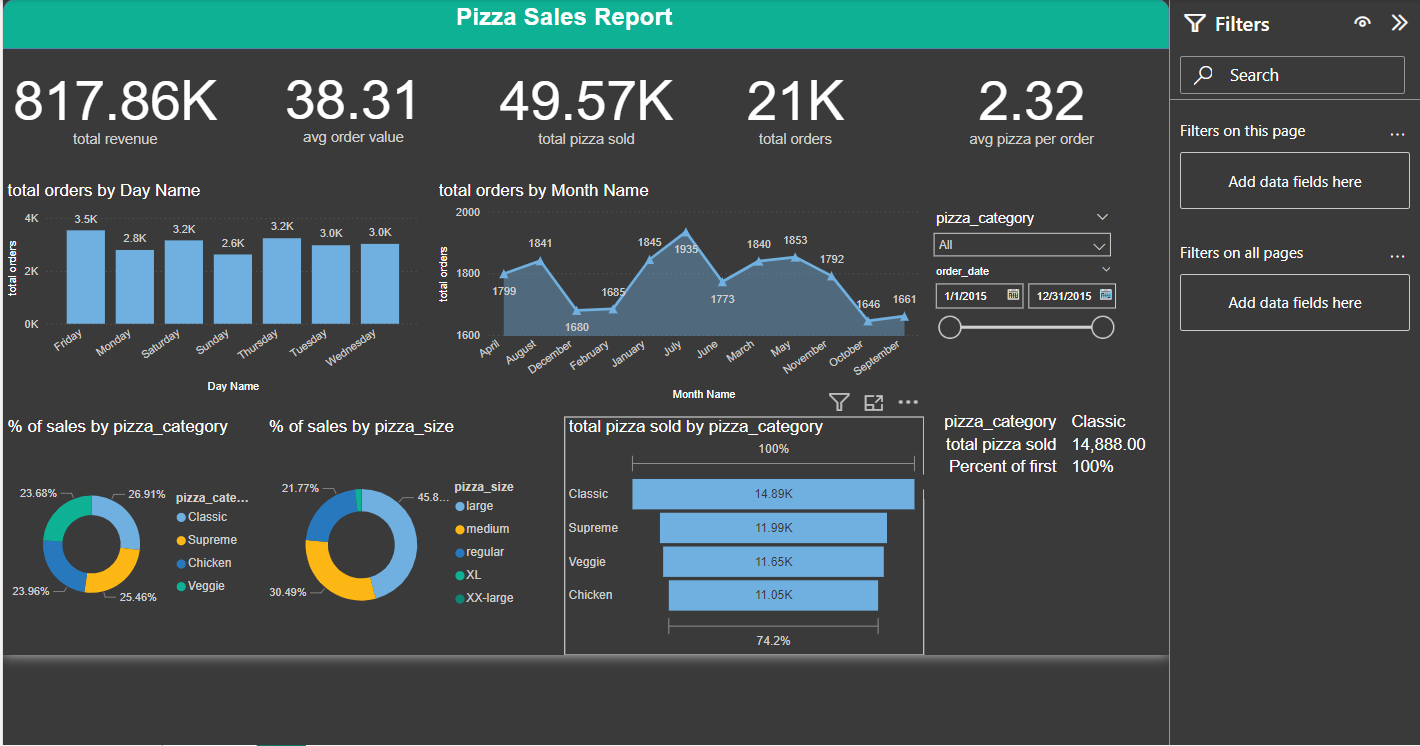

What the dashboard file says about the page in this screenshot:
{"tool":"powerbi","page":{"name":"Page 1","canvas":[1280,720],"ordinal":0},"visuals":[{"type":"card","fields":{"Values":["pizza_sales.total revenue"]},"box":[0,56,246.7,120],"z":0},{"type":"card","fields":{"Values":["pizza_sales.avg order value"]},"box":[262.7,54.7,245.3,118.7],"z":1},{"type":"card","fields":{"Values":["pizza_sales.total pizza sold"]},"box":[517.3,56,246.7,120],"z":2},{"type":"card","fields":{"Values":["pizza_sales.total orders"]},"box":[750.7,56,238.7,120],"z":3},{"type":"card","fields":{"Values":["pizza_sales.avg pizza per order"]},"box":[989.3,56,280,120],"z":4},{"type":"shape","box":[0,0,1280.3,54.9],"z":5},{"type":"textbox","box":[441.3,0,348,54.7],"z":6},{"type":"clusteredColumnChart","fields":{"Category":["pizza_sales.Day Name"],"Y":["pizza_sales.total orders"]},"box":[0,198.7,462.7,237.3],"z":7},{"type":"lineChart","fields":{"Category":["pizza_sales.Month Name"],"Y":["pizza_sales.total orders"]},"box":[473.3,198.7,537.3,246.7],"z":8},{"type":"donutChart","title":"% of sales by pizza_category","fields":{"Category":["pizza_sales.pizza_category"],"Y":["pizza_sales.total revenue"]},"box":[0,458.7,286.7,260],"z":9},{"type":"donutChart","title":"% of sales  by pizza_size","fields":{"Category":["pizza_sales.pizza_size"],"Y":["pizza_sales.total revenue"]},"box":[286.7,458.7,298.7,261.3],"z":10},{"type":"funnel","fields":{"Y":["pizza_sales.total pizza sold"],"Category":["pizza_sales.pizza_category"]},"box":[616,458.7,394.7,261.3],"z":11},{"type":"slicer","fields":{"Values":["pizza_sales.pizza_category"]},"box":[1010.7,226.7,214.7,60],"z":12},{"type":"slicer","fields":{"Values":["pizza_sales.converted_order_date"]},"box":[1010.7,286.7,217.3,101.3],"z":13}]}

Visuals, with their boxes on the page's 1280x720 design canvas (x1, y1, x2, y2). These are canvas units, not pixel positions in the 1420x746 screenshot, which may show the page scaled, cropped or inside an application window:
card - pizza_sales.total revenue: bbox(0, 56, 247, 176)
card - pizza_sales.avg order value: bbox(263, 55, 508, 173)
card - pizza_sales.total pizza sold: bbox(517, 56, 764, 176)
card - pizza_sales.total orders: bbox(751, 56, 989, 176)
card - pizza_sales.avg pizza per order: bbox(989, 56, 1269, 176)
shape: bbox(0, 0, 1280, 55)
textbox: bbox(441, 0, 789, 55)
clusteredColumnChart - pizza_sales.Day Name x pizza_sales.total orders: bbox(0, 199, 463, 436)
lineChart - pizza_sales.Month Name x pizza_sales.total orders: bbox(473, 199, 1011, 445)
"% of sales by pizza_category" donutChart: bbox(0, 459, 287, 719)
"% of sales  by pizza_size" donutChart: bbox(287, 459, 585, 720)
funnel - pizza_sales.total pizza sold x pizza_sales.pizza_category: bbox(616, 459, 1011, 720)
slicer - pizza_sales.pizza_category: bbox(1011, 227, 1225, 287)
slicer - pizza_sales.converted_order_date: bbox(1011, 287, 1228, 388)
